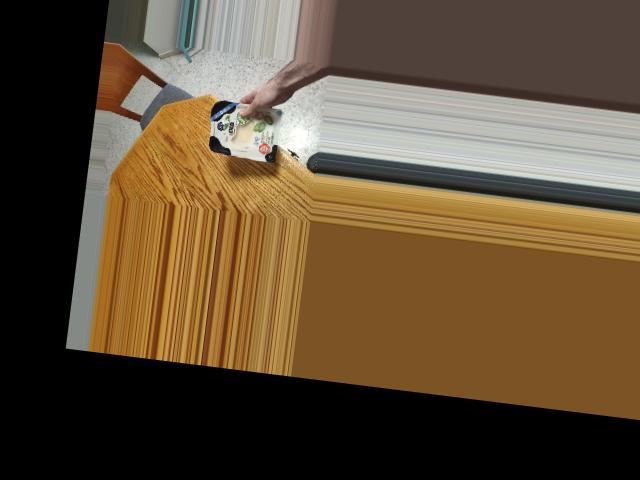cheese: (190, 95, 298, 164)
